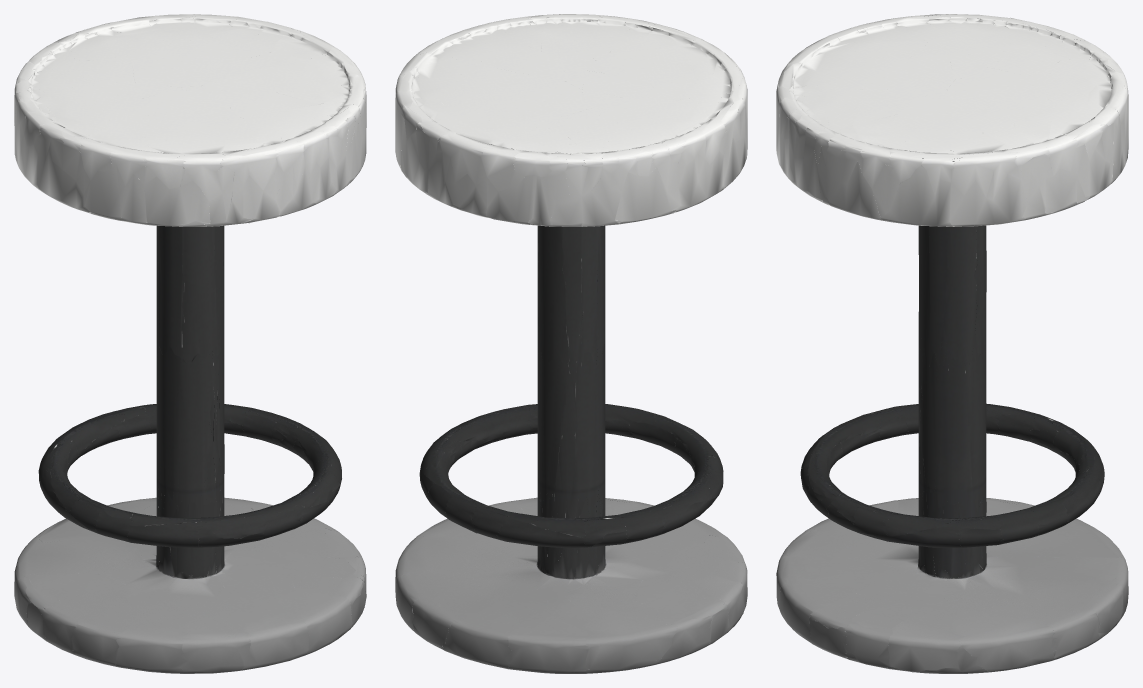
The model's file is meet_stool.glb.
The picture shows the model from 3 angles, left to right: view 1: azimuth 30°, elevation 25°; view 2: azimuth 150°, elevation 25°; view 3: azimuth 270°, elevation 25°; orthographic projection.
Visible parts, largest first — view 1: meshy_meet_stool; view 2: meshy_meet_stool; view 3: meshy_meet_stool.
Part boxes in pixels (<box>): meshy_meet_stool: <box>14,14,366,673</box>; meshy_meet_stool: <box>395,14,747,673</box>; meshy_meet_stool: <box>776,14,1128,673</box>.
Size of the model in its own units: 0.4617 by 0.7502 by 0.4617.
Materials: 1 (1 with a texture image).
